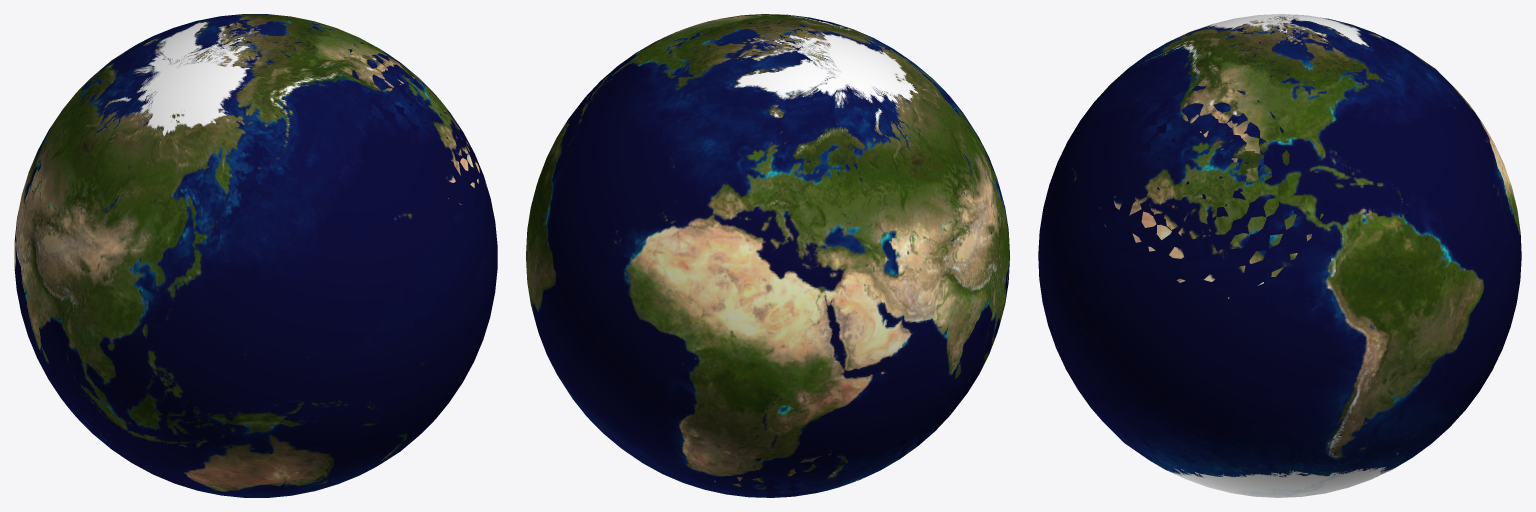
File: Globe.obj
The picture shows the model from 3 angles, left to right: view 1: azimuth 30°, elevation 25°; view 2: azimuth 150°, elevation 25°; view 3: azimuth 270°, elevation 25°; orthographic projection.
Parts seen in each view (by area): view 1: Atmosphere_Sphere.001, clouds_Sphere.000; view 2: Atmosphere_Sphere.001, clouds_Sphere.000; view 3: Atmosphere_Sphere.001, clouds_Sphere.000.
Boxes of the visible parts, <box> form: Atmosphere_Sphere.001: <box>14,14,497,497</box>; clouds_Sphere.000: <box>31,42,486,445</box>; Atmosphere_Sphere.001: <box>526,14,1009,497</box>; clouds_Sphere.000: <box>623,14,965,497</box>; Atmosphere_Sphere.001: <box>1038,14,1521,497</box>; clouds_Sphere.000: <box>1087,75,1323,298</box>.
Size of the model in its own units: 20.01 by 20.04 by 20.04.
3 materials, 3 textured.
